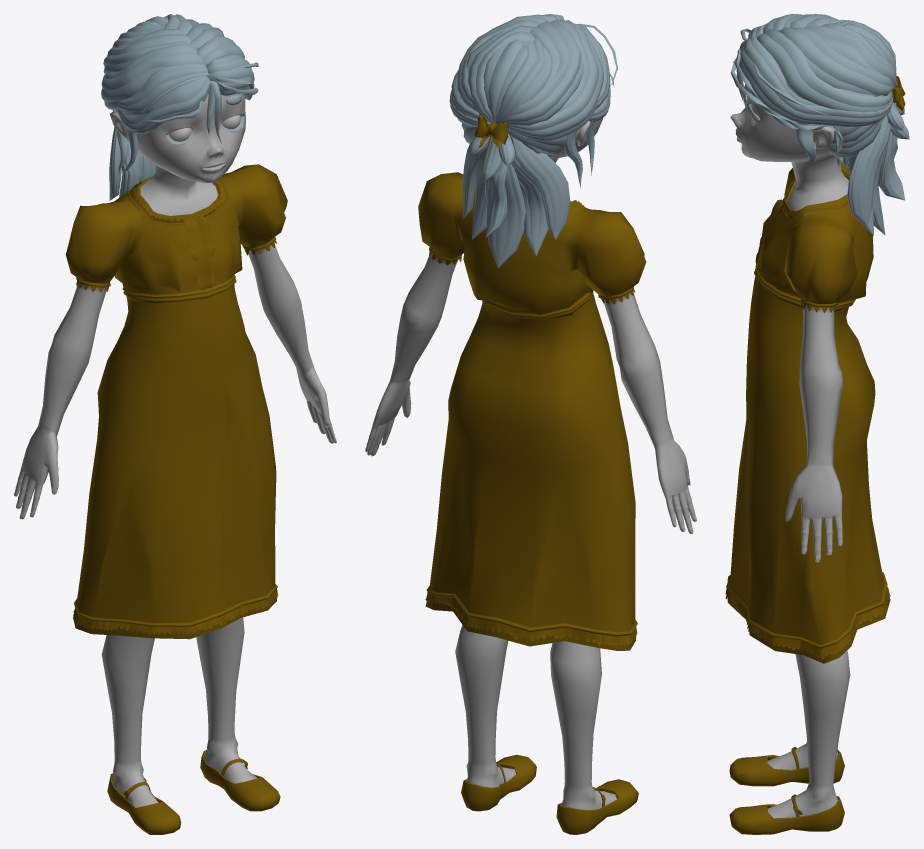
File: Leonora_player.fbx
The picture shows the model from 3 angles, left to right: view 1: azimuth 30°, elevation 25°; view 2: azimuth 150°, elevation 25°; view 3: azimuth 270°, elevation 25°; orthographic projection. The views are drawn at different scales.
Parts seen in each view (by area): view 1: vestido, Lenora_body, cabelo_topo, sapato_esq, sapato_dir, sweep76, sweep78; view 2: vestido, Lenora_body, cabelo_topo, sweep78, sapato_dir, sweep74, sapato_esq, sweep76, sweep77, sweep75, sweep79, laco; view 3: vestido, Lenora_body, cabelo_topo, sapato_esq, sweep79, sapato_dir, sweep77, sweep74, sweep61.
Part boxes in pixels (x1,y1,x2,y2): vestido: (73, 285, 278, 639); Lenora_body: (14, 93, 336, 807); cabelo_topo: (101, 14, 258, 174); sapato_esq: (200, 750, 280, 811); sapato_dir: (107, 773, 181, 834); sweep76: (119, 140, 143, 197); sweep78: (109, 127, 121, 200); vestido: (425, 292, 637, 650); Lenora_body: (365, 38, 696, 809); cabelo_topo: (449, 14, 617, 188); sweep78: (511, 137, 570, 239); sapato_dir: (556, 779, 638, 834); sweep74: (486, 164, 525, 268); sapato_esq: (461, 754, 536, 811); sweep76: (511, 157, 548, 255); sweep77: (484, 163, 507, 238); sweep75: (471, 147, 486, 240); sweep79: (462, 141, 481, 219); laco: (474, 114, 508, 148); vestido: (725, 276, 890, 663); Lenora_body: (730, 23, 873, 818); cabelo_topo: (730, 14, 909, 168); sapato_esq: (729, 794, 844, 834); sweep79: (847, 115, 891, 225); sapato_dir: (729, 746, 844, 786); sweep77: (877, 131, 905, 200); sweep74: (872, 148, 885, 234); sweep61: (796, 122, 816, 168).
Bounding box in the file's own units: 82.41 × 193 × 41.15.
